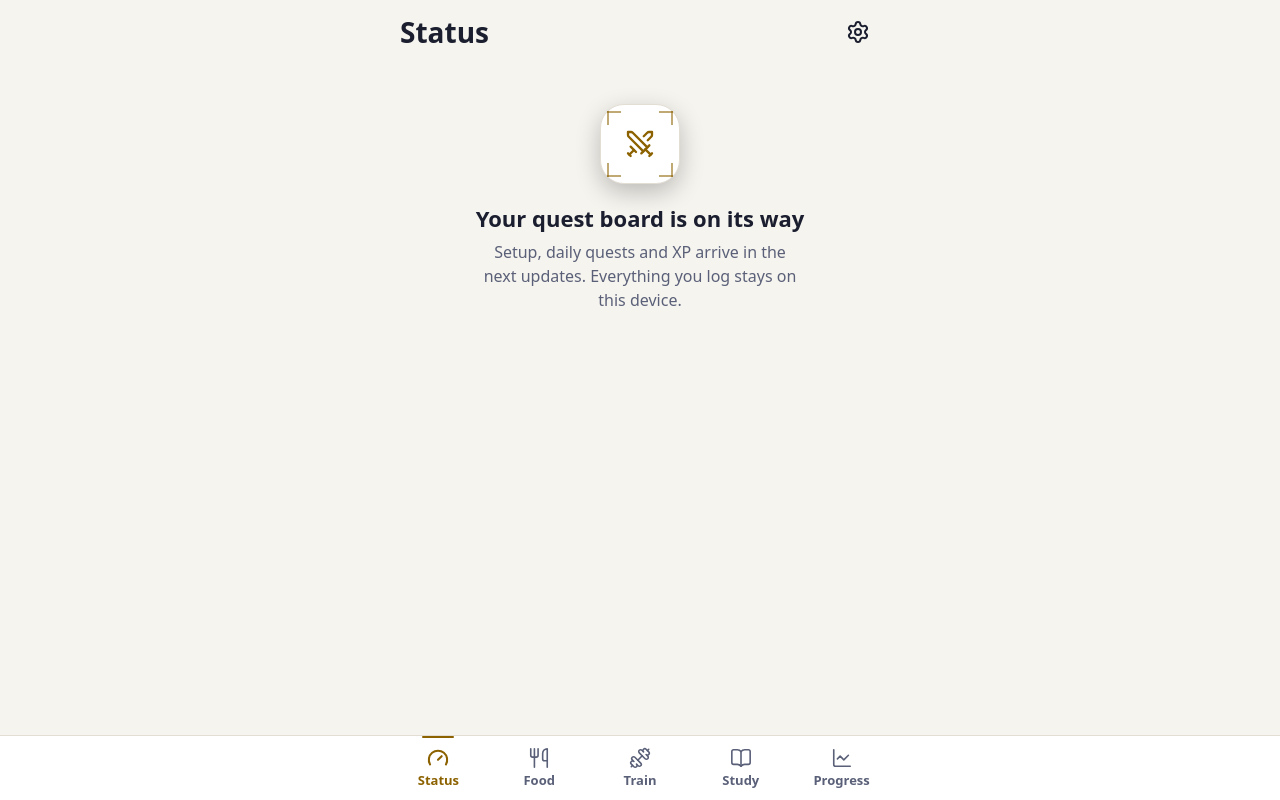
Test: app shell › navigates to Food and shows its designed empty state
Click the link "Food" at (539, 768), box [524,747,555,789]
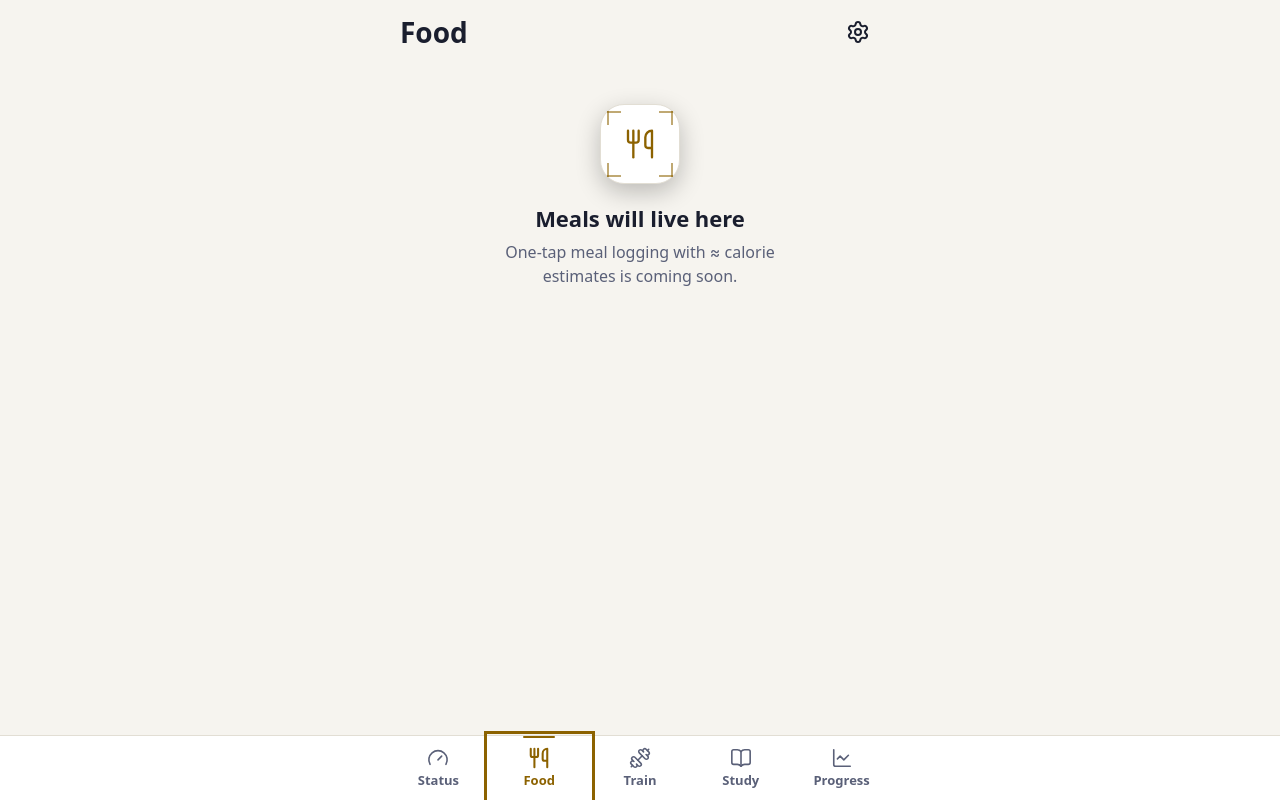
Check: the heading "Food" is shown, box [400,13,468,51]
Check: the heading "Meals will live here" is shown, box [535,204,745,232]
